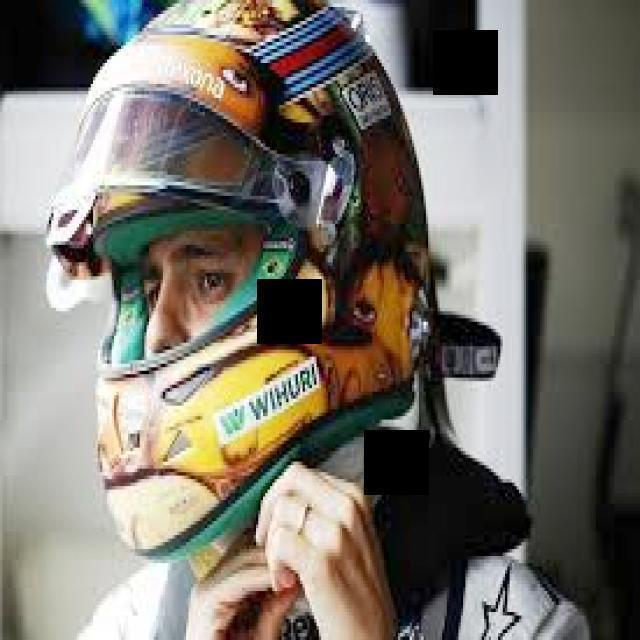helmet: (54, 0, 428, 568)
